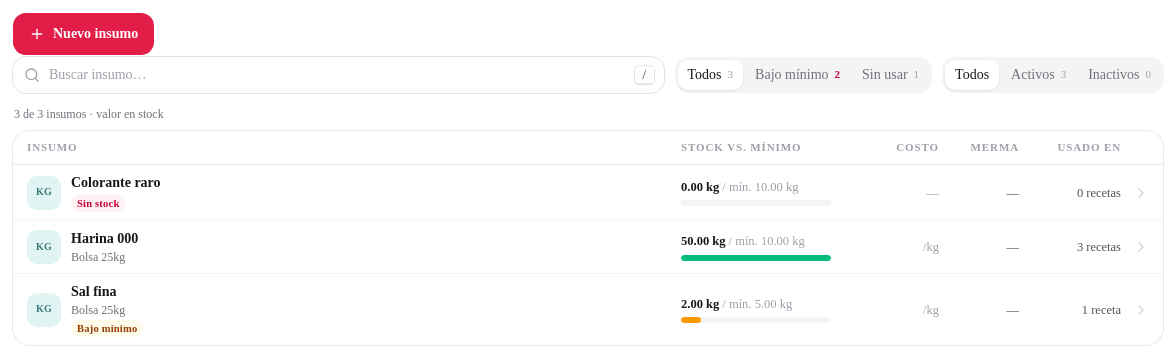
Scenario: IngredientsTab (spec 205 · D10) › «Bajo mínimo» junta low y out, no ok
Click the button "Bajo mínimo 2".
click(798, 75)  # box [745,60,850,90]
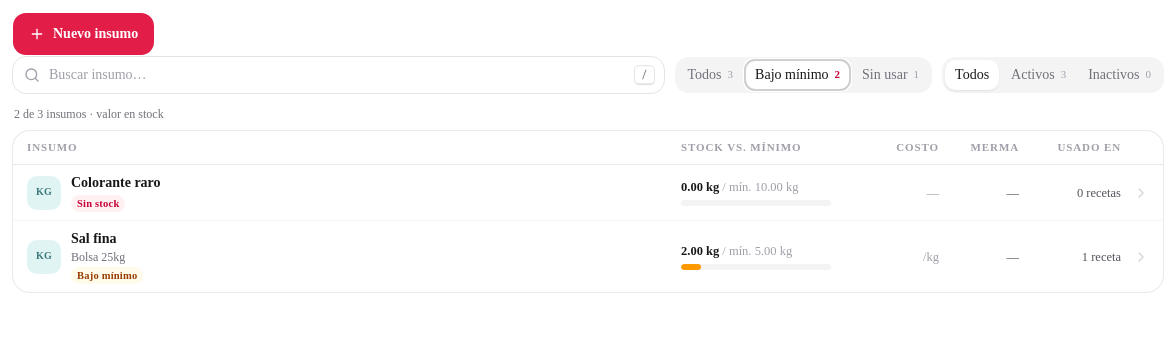
Expected: the text "Sal fina" is shown, [71,231,116,246]
Result: the text "Harina 000" is gone
